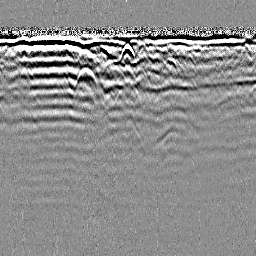cavity: (118, 40, 137, 66)
